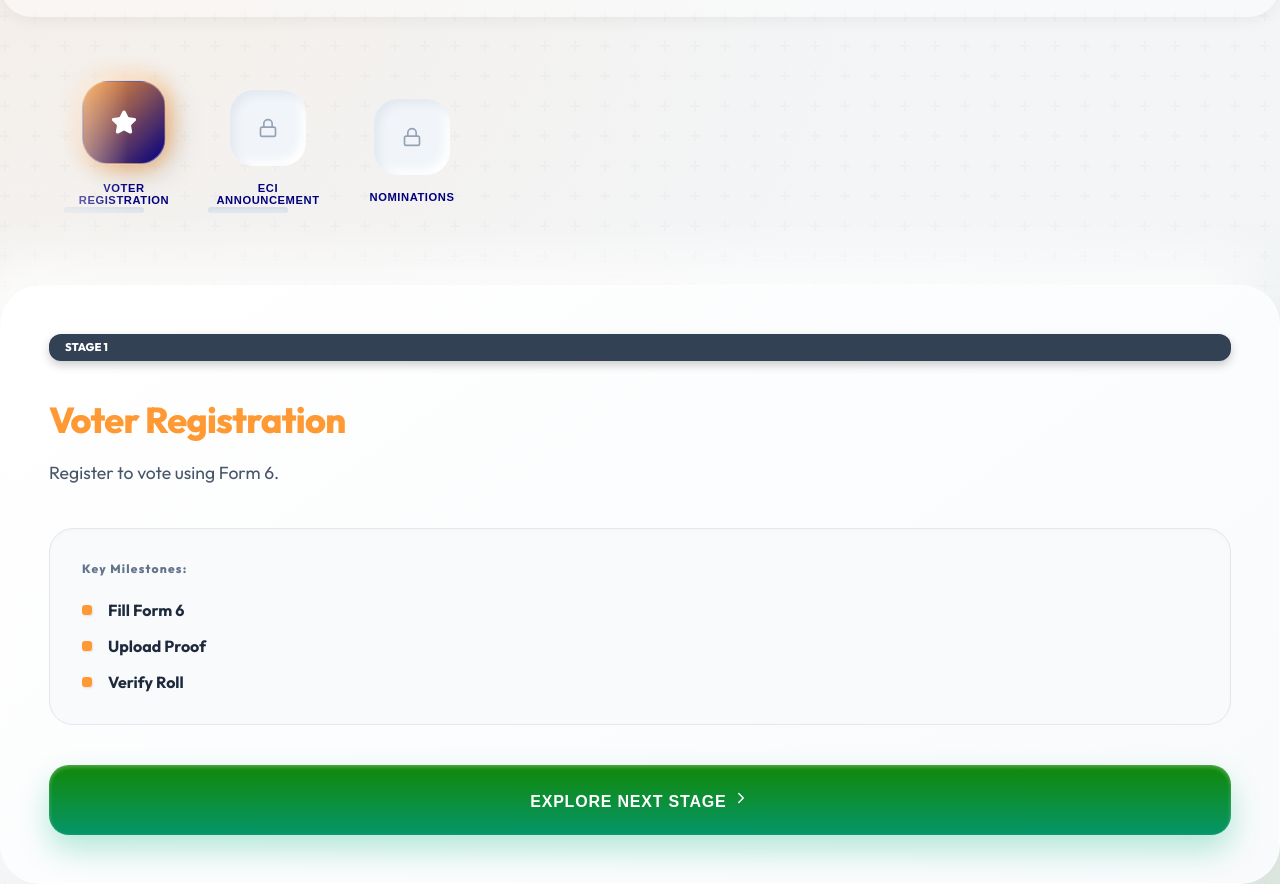
Scenario: Timeline Component › should unlock all stages sequentially
(page scrolled)
// Unlock stage 2
Click the button "Explore Next Stage". click: (640, 800)
box: [49,764,1231,834]
(page scrolled)
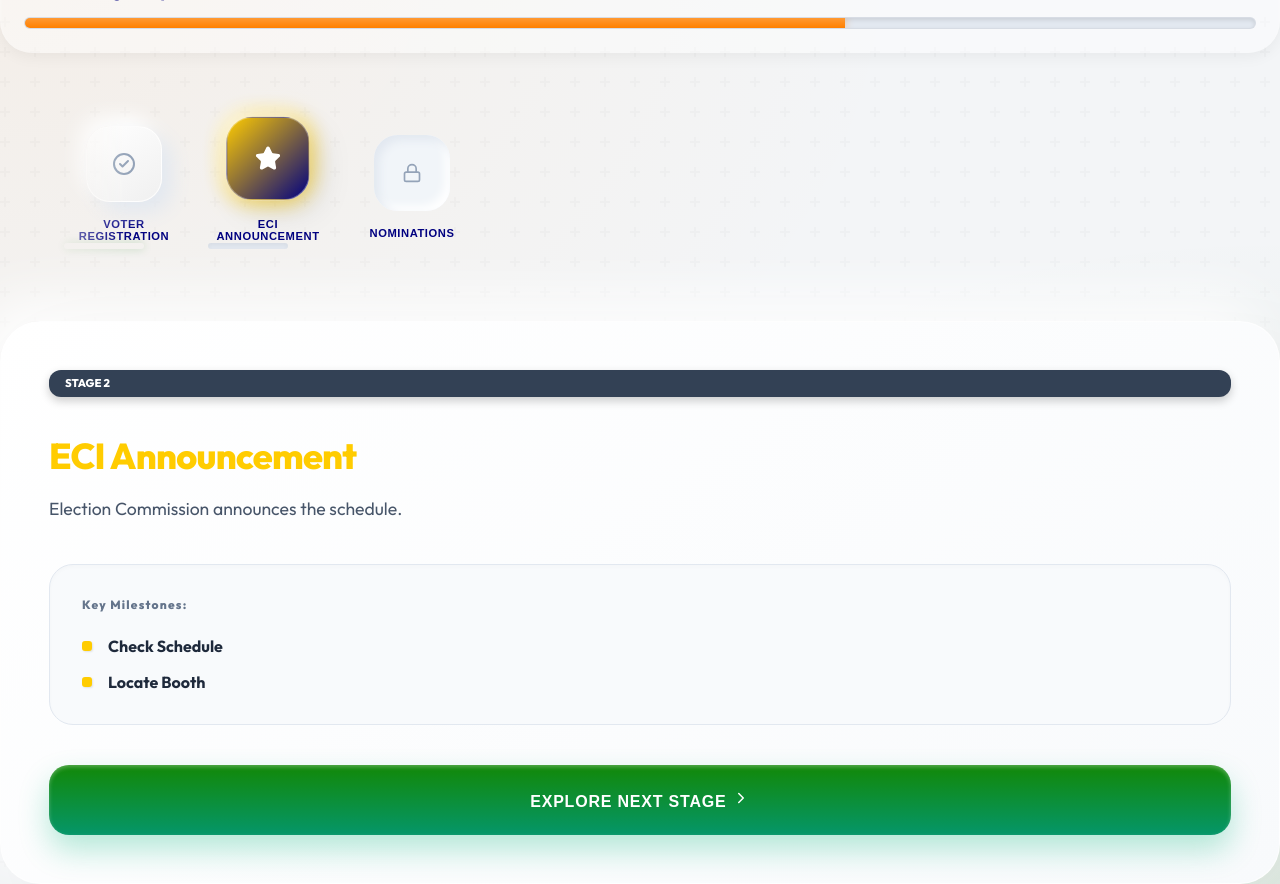
// Unlock stage 3
Click the button "Explore Next Stage". click: (640, 800)
box: [49,764,1231,834]
(page scrolled)
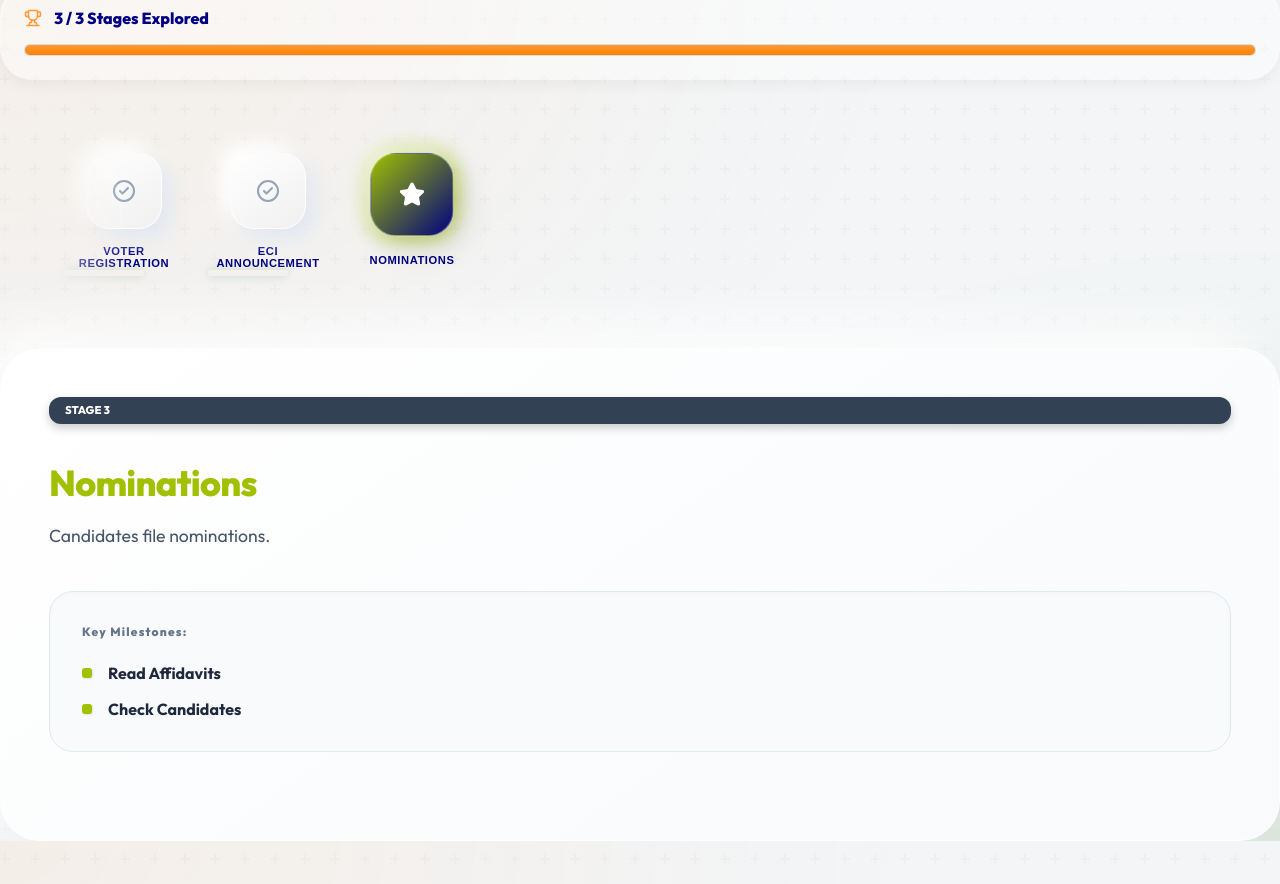
Check: the text "Candidates file nominations." is shown, box [49,524,270,547]
Check: the text "3 / 3 Stages Explored" is shown, box [54,8,209,28]
